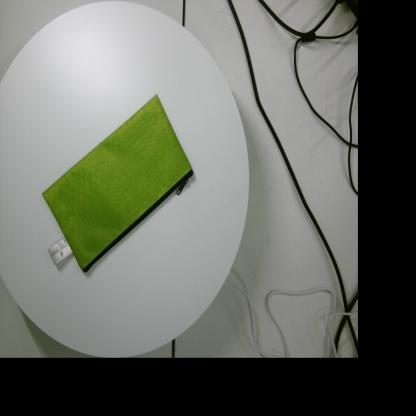Stationery: (42, 94, 193, 272)
